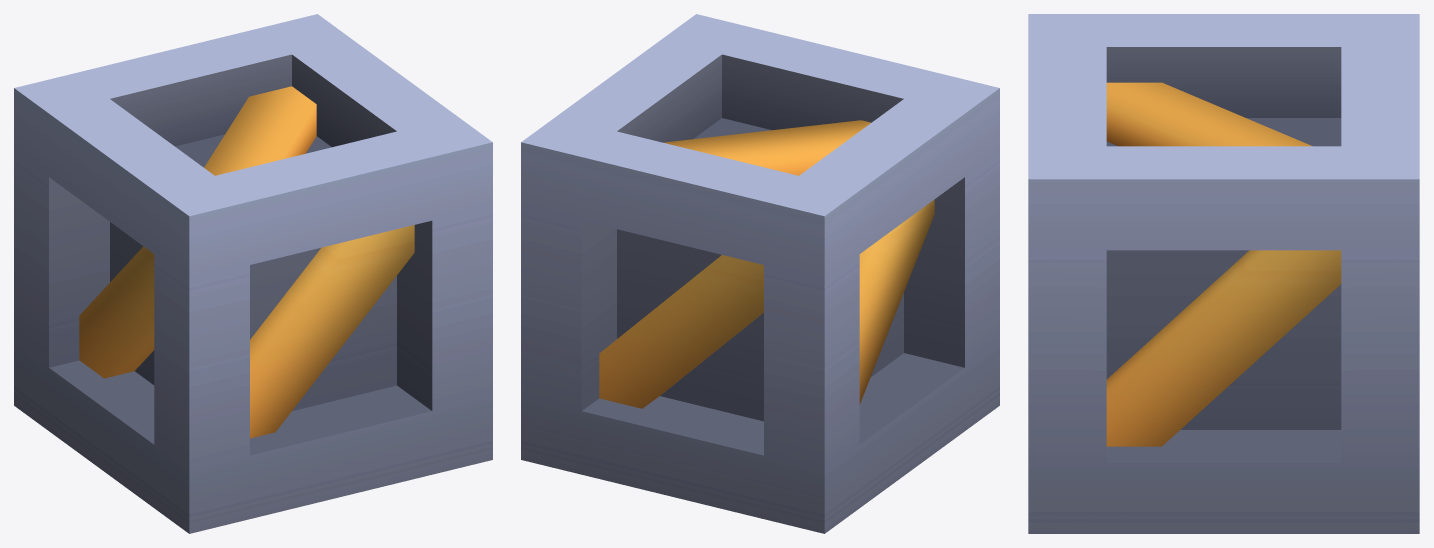
The model's file is crate.glb.
3 views of the same model, side by side, from view 1: azimuth 30°, elevation 25°; view 2: azimuth 150°, elevation 25°; view 3: azimuth 270°, elevation 25° (orthographic). The views are drawn at different scales.
Parts seen in each view (by area): view 1: crate; view 2: crate; view 3: crate.
Part boxes in pixels (x1,y1,x2,y2): crate: [14, 14, 492, 533]; crate: [521, 14, 999, 533]; crate: [1028, 14, 1419, 533].
Bounding box in the file's own units: 0.5 × 0.5 × 0.5.
1 material, 1 textured.
